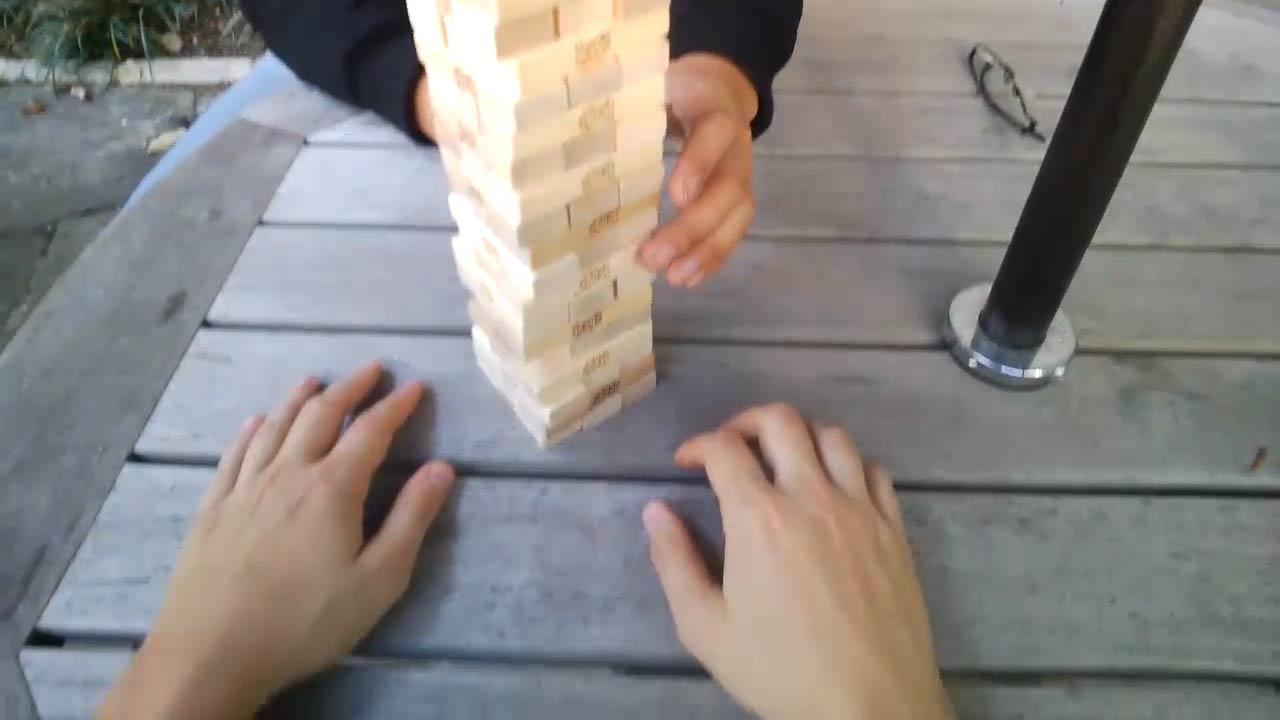hand: (167, 360, 458, 708), (649, 397, 931, 719), (661, 56, 757, 288)
